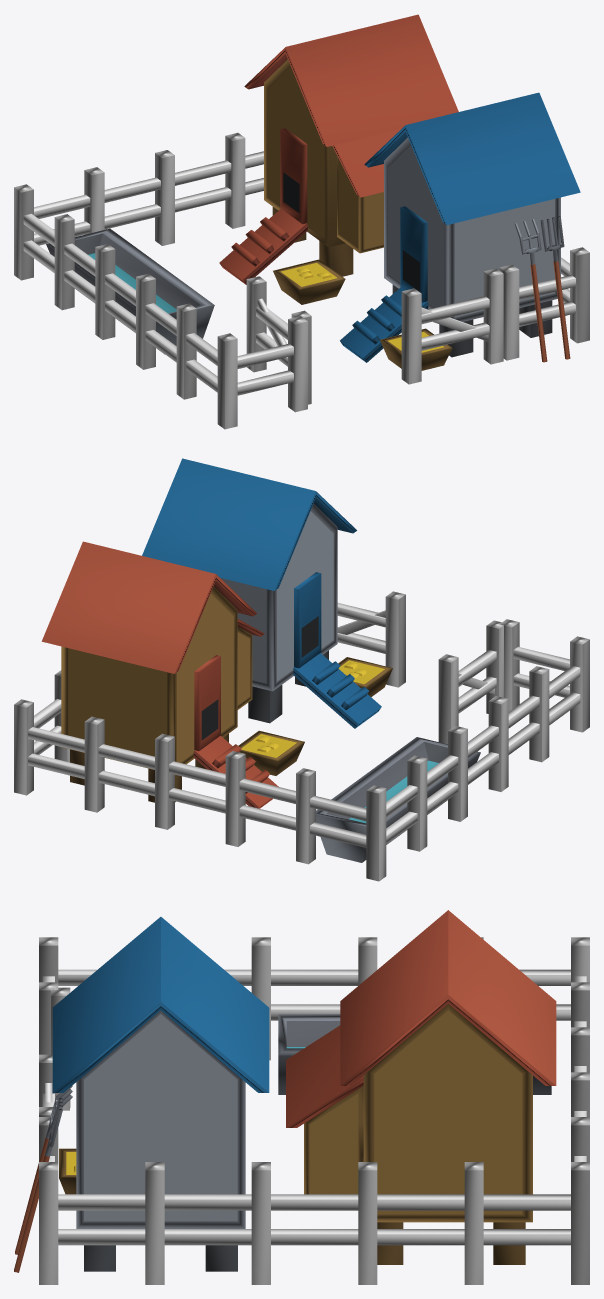
The model's file is ChickenCoop.glb.
The picture shows the model from 3 angles, top to bottom: view 1: azimuth 30°, elevation 25°; view 2: azimuth 150°, elevation 25°; view 3: azimuth 270°, elevation 25°; orthographic projection. The views are drawn at different scales.
Parts seen in each view (by area): view 1: ChickenCoop; view 2: ChickenCoop; view 3: ChickenCoop.
Part boxes in pixels (left/top/right/bottom): ChickenCoop: left=14, top=14, right=589, bottom=429; ChickenCoop: left=14, top=458, right=589, bottom=881; ChickenCoop: left=14, top=910, right=589, bottom=1284.
Bounding box in the file's own units: 10.36 × 5.96 × 10.83.
Materials: 1 (1 with a texture image).
